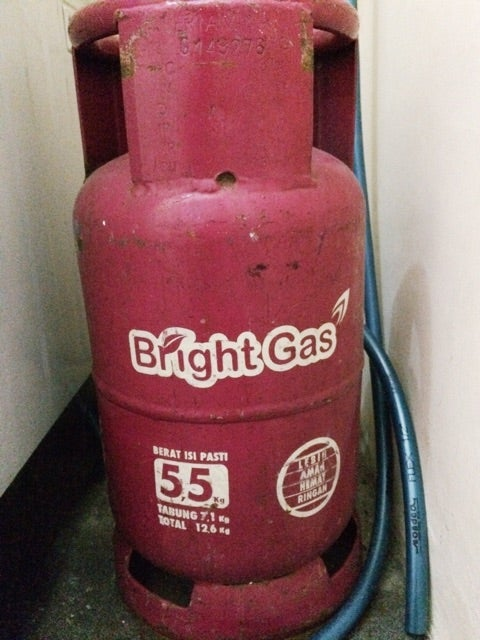bright_gas: (72, 2, 368, 640)
